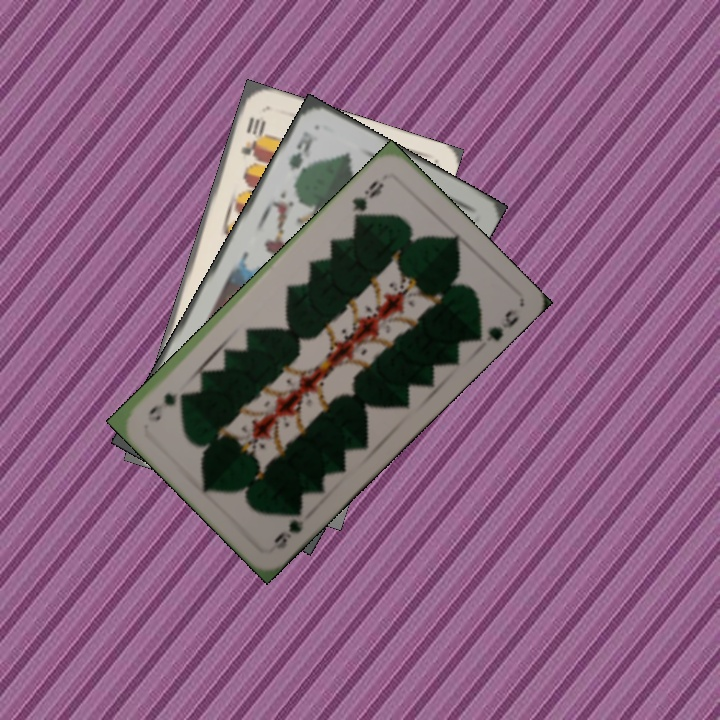E10: (237, 113, 269, 169)
G9: (270, 500, 306, 552), (347, 176, 387, 222)
GK: (284, 127, 316, 183)
